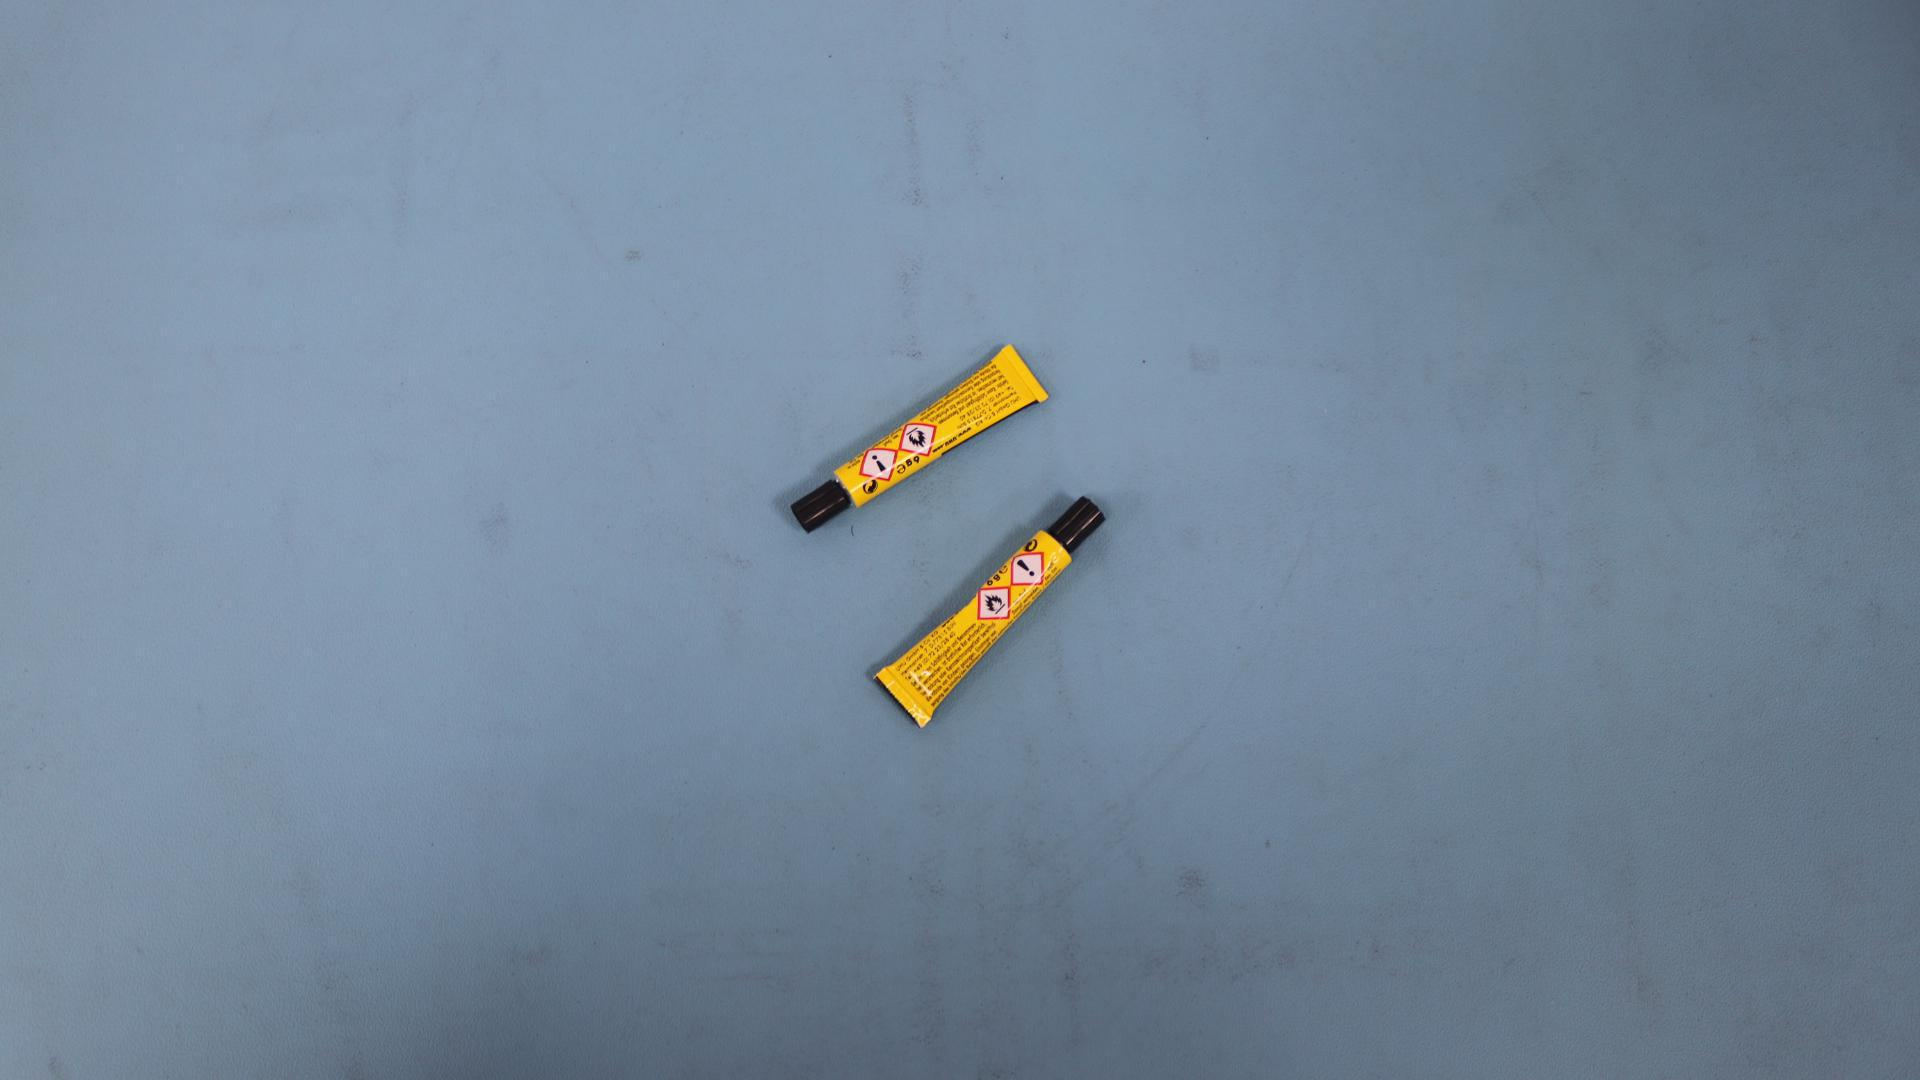Head: (818, 501, 825, 508), (1075, 523, 1081, 529)
Tail: (901, 695, 908, 702), (1023, 371, 1029, 377)
Tube: (870, 494, 1106, 727), (790, 344, 1049, 534)
